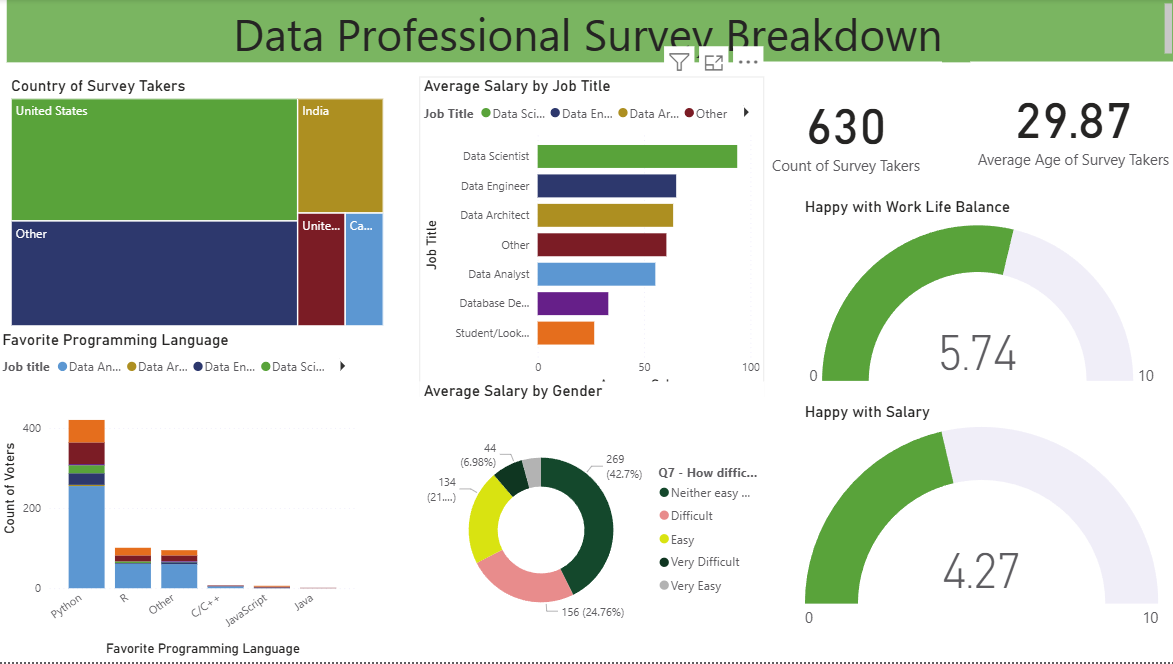

Layout of this report page (visuals, bound fields, positions):
{"tool":"powerbi","page":{"name":"Page 1","canvas":[1280,720],"ordinal":0},"visuals":[{"type":"textbox","box":[9.6,0,1270.7,68.6],"z":0},{"type":"card","fields":{"Values":["Count(Data Professional Survey.Unique ID)"]},"box":[816.7,68.3,207.8,148.2],"z":1},{"type":"card","fields":{"Values":["Avg(Data Professional Survey.Q10 - Current Age)"]},"box":[1056.5,68.3,223.8,136.6],"z":2},{"type":"barChart","title":"Average Salary by Job Title","fields":{"Category":["Data Professional Survey.Q1 - Which Title Best Fits your Current Role?.1"],"Y":["Avg(Data Professional Survey.Average Salary)"],"Series":["Data Professional Survey.Q1 - Which Title Best Fits your Current Role?.1"]},"box":[457.8,84.3,374.9,347.3],"z":3},{"type":"columnChart","title":"Favorite Programming Language","fields":{"Category":["Data Professional Survey.Q5 - Favorite Programming Language.1"],"Y":["CountNonNull(Data Professional Survey.Unique ID)"],"Series":["Data Professional Survey.Q1 - Which Title Best Fits your Current Role?.1"]},"box":[0,360.4,393.8,358.9],"z":4},{"type":"treemap","title":"Country of Survey Takers","fields":{"Group":["Data Professional Survey.Q11 - Which Country do you live in?.1"],"Values":["CountNonNull(Data Professional Survey.Q11 - Which Country do you live in?.1)"]},"box":[10.2,84.3,414.2,276.1],"z":5},{"type":"gauge","title":"Happy with Work Life Balance","fields":{"Y":["Avg(Data Professional Survey.Q6 - How Happy are you in your Current Position with the following? (Work/Life Balance))"],"MinValue":["Min(Data Professional Survey.Q6 - How Happy are you in your Current Position with the following? (Work/Life Balance))"],"MaxValue":["Max(Data Professional Survey.Q6 - How Happy are you in your Current Position with the following? (Work/Life Balance))"]},"box":[871.9,216.5,393.8,215.1],"z":6},{"type":"gauge","title":"Happy with Salary","fields":{"Y":["Avg(Data Professional Survey.Q6 - How Happy are you in your Current Position with the following? (Salary))"],"MinValue":["Min(Data Professional Survey.Q6 - How Happy are you in your Current Position with the following? (Salary))"],"MaxValue":["Max(Data Professional Survey.Q6 - How Happy are you in your Current Position with the following? (Salary))"]},"box":[871.9,438.9,393.8,257.2],"z":7},{"type":"donutChart","title":"Average Salary by Gender","fields":{"Category":["Data Professional Survey.Q7 - How difficult was it for you to break into Data?"],"Y":["CountNonNull(Data Professional Survey.Q7 - How difficult was it for you to break into Data?)"]},"box":[457.8,415.6,374.9,303.7],"z":8}]}

Visuals, with their boxes in screenshot pixels (x1, y1, x2, y2), scaled from the page's 1280x720 canvas onto the 1173x664 screenshot:
textbox: (left=9, top=0, right=1172, bottom=63)
card - Count(Data Professional Survey.Unique ID): (left=748, top=63, right=939, bottom=200)
card - Avg(Data Professional Survey.Q10 - Current Age): (left=968, top=63, right=1172, bottom=189)
"Average Salary by Job Title" barChart: (left=420, top=78, right=763, bottom=398)
"Favorite Programming Language" columnChart: (left=0, top=332, right=361, bottom=663)
"Country of Survey Takers" treemap: (left=9, top=78, right=389, bottom=332)
"Happy with Work Life Balance" gauge: (left=799, top=200, right=1160, bottom=398)
"Happy with Salary" gauge: (left=799, top=405, right=1160, bottom=642)
"Average Salary by Gender" donutChart: (left=420, top=383, right=763, bottom=663)
